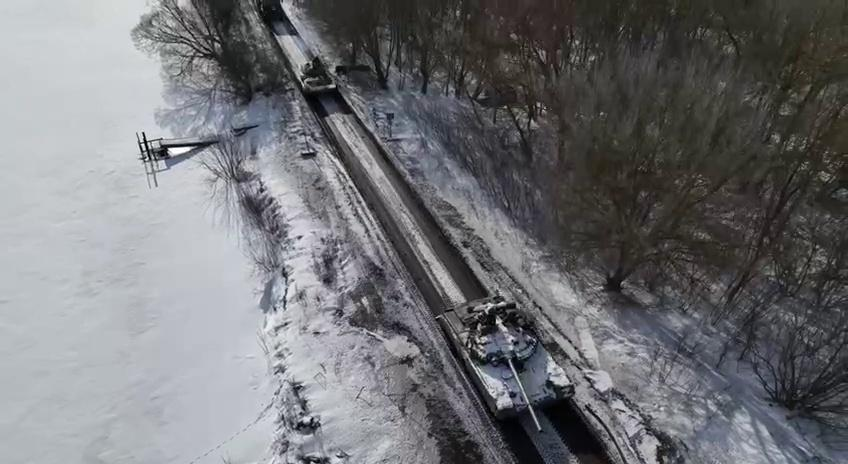tank: (439, 293, 576, 435), (299, 57, 336, 94)
truck: (256, 0, 288, 21)
